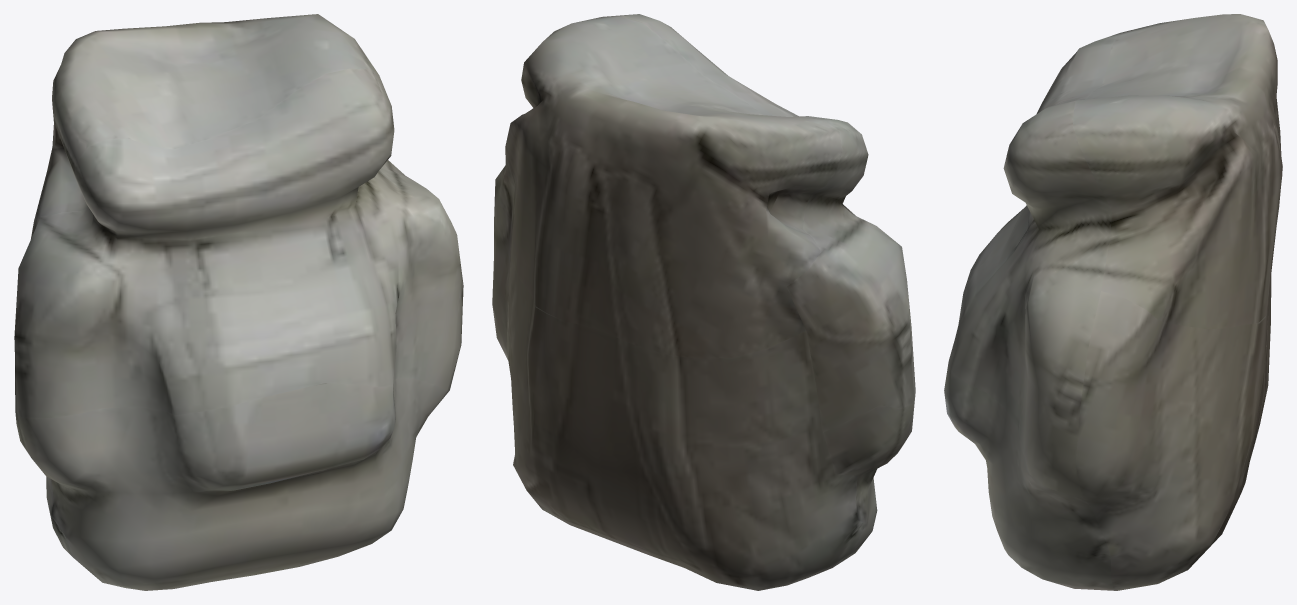
File: backpack.glb
3 renders of one model, left to right at view 1: azimuth 30°, elevation 25°; view 2: azimuth 150°, elevation 25°; view 3: azimuth 270°, elevation 25°, orthographic.
Parts seen in each view (by area): view 1: ZBrush_defualt_group_default_0; view 2: ZBrush_defualt_group_default_0; view 3: ZBrush_defualt_group_default_0.
Boxes of the visible parts, <box> form: ZBrush_defualt_group_default_0: <box>14,14,463,590</box>; ZBrush_defualt_group_default_0: <box>492,14,915,590</box>; ZBrush_defualt_group_default_0: <box>944,14,1282,590</box>.
Bounding box in the file's own units: 0.7502 × 0.8504 × 0.5238.
1 material, 1 textured.
